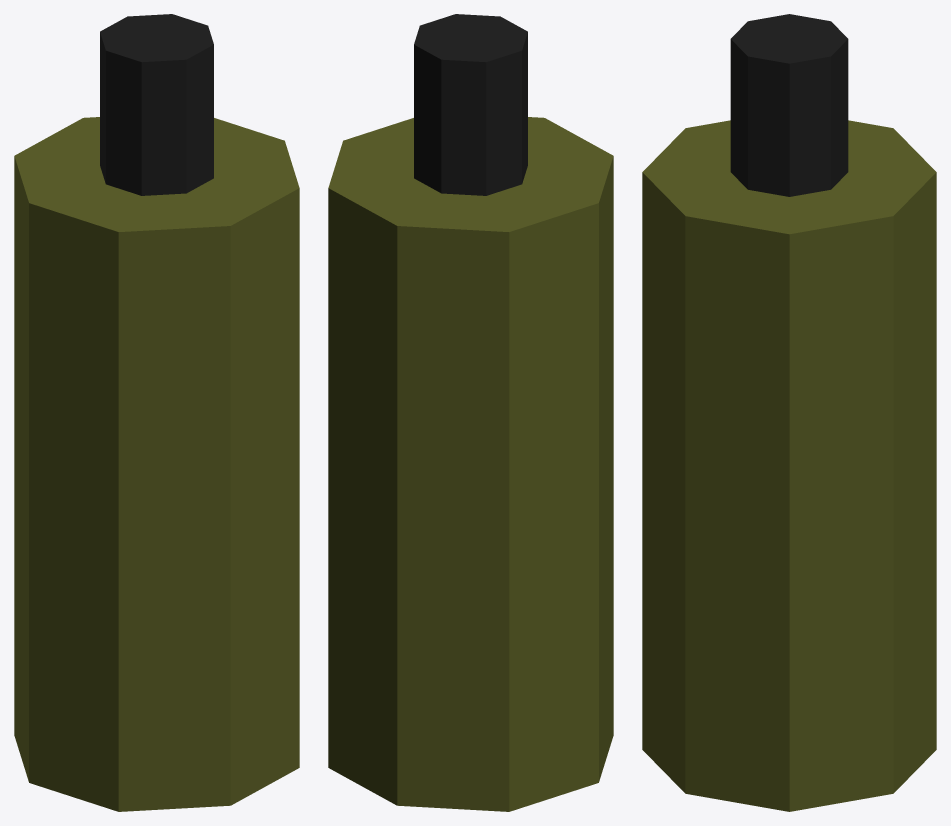
Rendered from g_gas.glb.
3 renders of one model, left to right at view 1: azimuth 30°, elevation 25°; view 2: azimuth 150°, elevation 25°; view 3: azimuth 270°, elevation 25°, orthographic.
Parts seen in each view (by area): view 1: body; view 2: body; view 3: body.
Part boxes in pixels (left/top/right/bottom): body: left=14, top=14, right=299, bottom=811; body: left=328, top=14, right=613, bottom=811; body: left=642, top=14, right=936, bottom=811.
Bounding box in the file's own units: 0.06 × 0.16 × 0.06.
